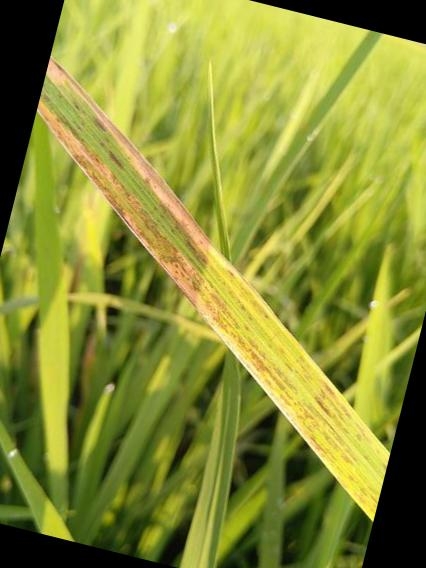Leaf Streak: (36, 57, 391, 524)
